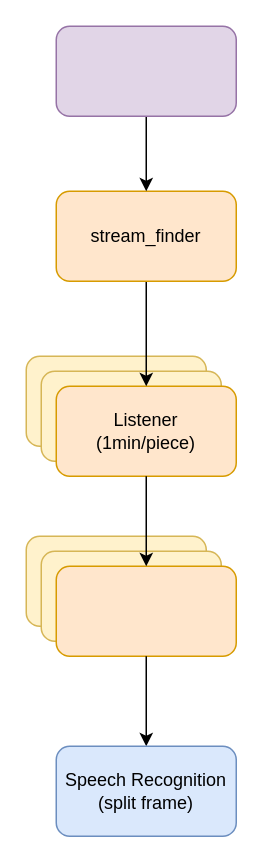
The diagram is 263 pixels wide and 863 high, and some of its shapes have lost their labels. Here are the shapes that lost their labels. From the top down, the box of each, then its label:
(55, 25, 236, 116): Folder Setup
(55, 565, 236, 656): Processor (split frame)
